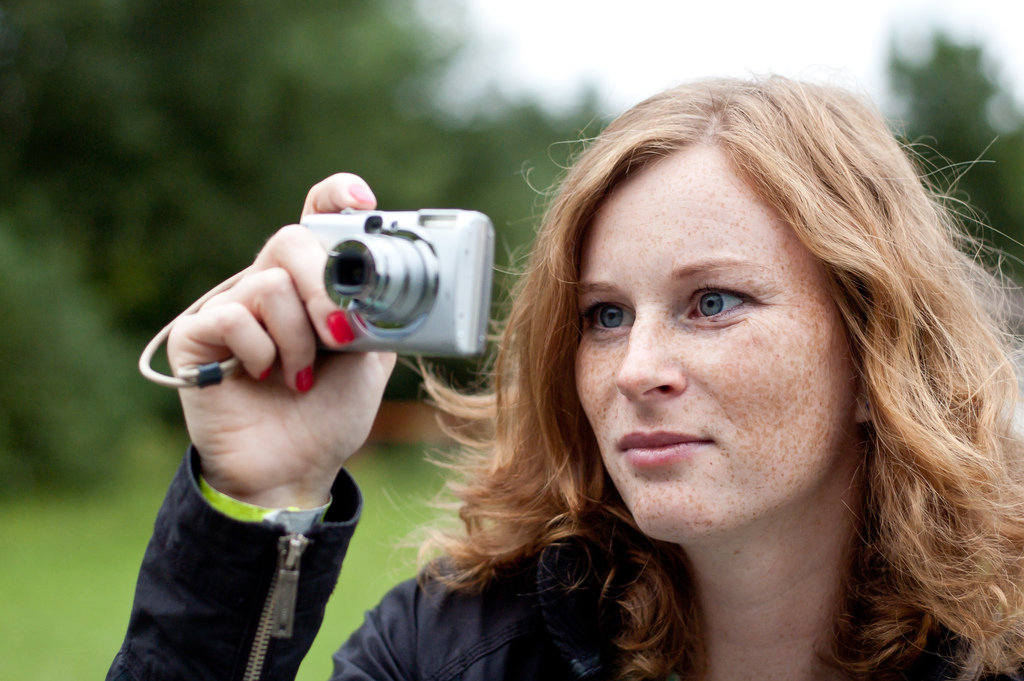Human-face: (571, 145, 853, 545)
